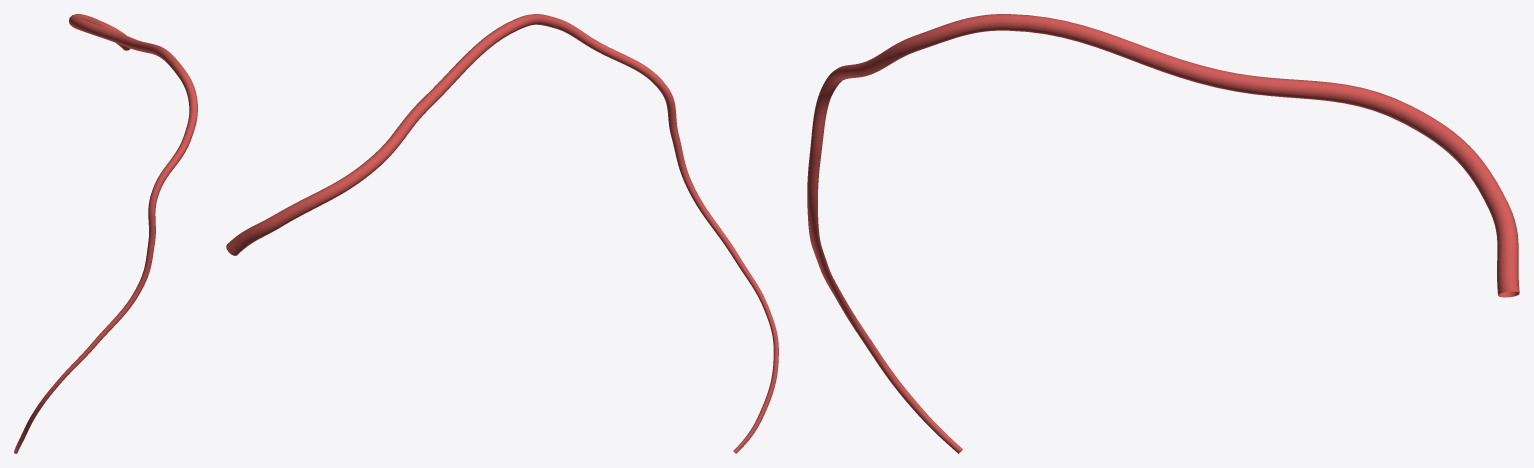
The picture shows the model from 3 angles, left to right: view 1: azimuth 30°, elevation 25°; view 2: azimuth 150°, elevation 25°; view 3: azimuth 270°, elevation 25°; orthographic projection. The views are drawn at different scales.
Visible parts, largest first — view 1: 膈下动脉; view 2: 膈下动脉; view 3: 膈下动脉.
Boxes of the visible parts, left/top/right/bottom form: 膈下动脉: left=14, top=14, right=197, bottom=453; 膈下动脉: left=226, top=14, right=778, bottom=453; 膈下动脉: left=807, top=14, right=1519, bottom=453.
Bounding box in the file's own units: 0.1309 × 0.1478 × 0.1631.
